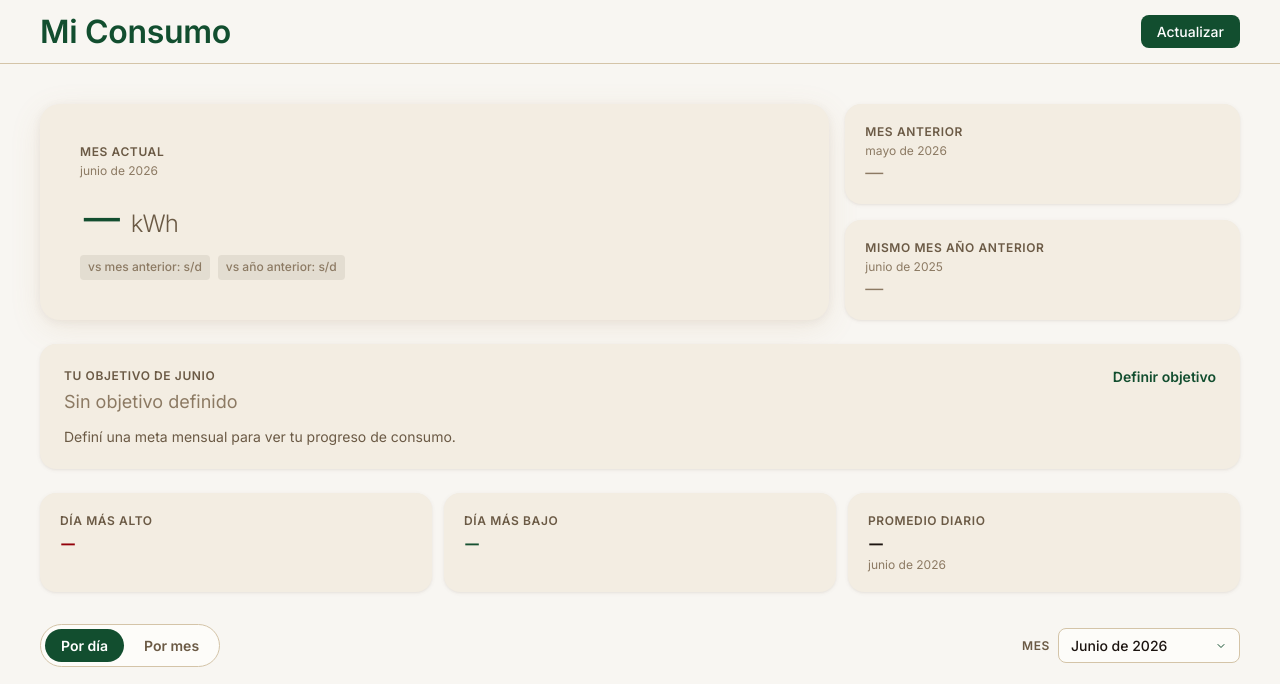
Test: ConsumoPage — toggle día / mes del gráfico › al elegir 'Por mes' muestra el selector de año y pide la comparación anual
This screenshot has width=1280, height=684.
Click the button "Por mes".
click(172, 646)  # box [128,629,215,662]
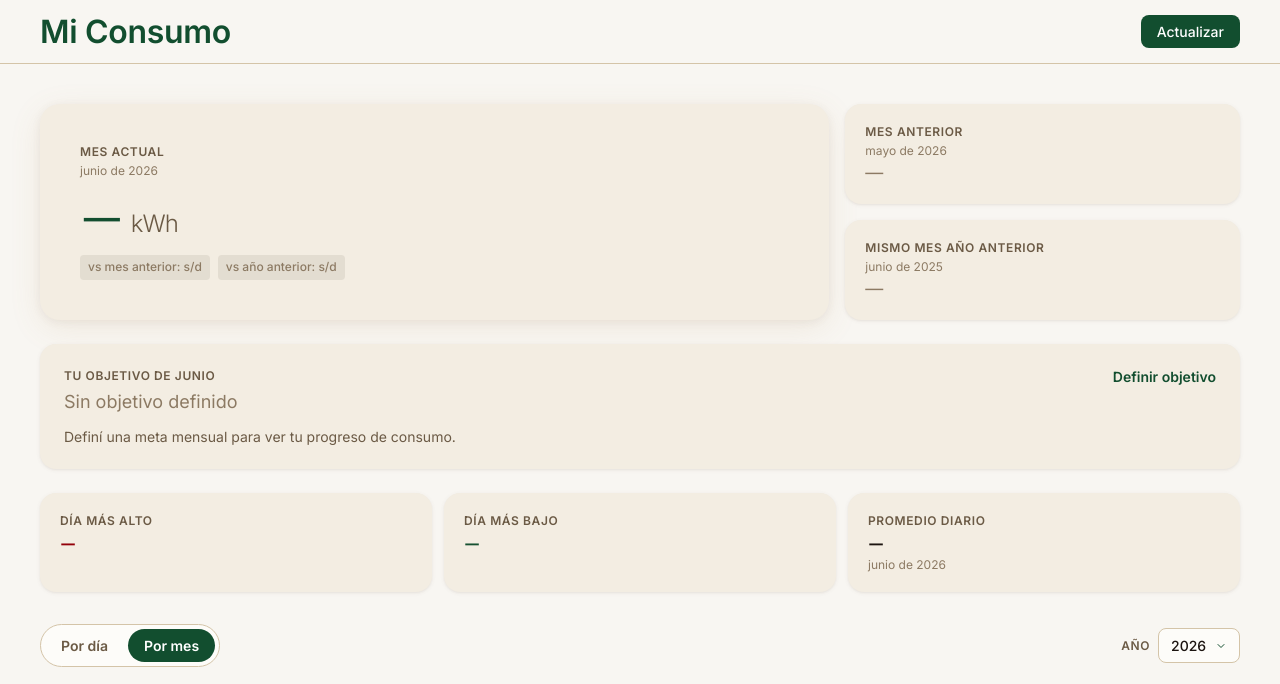
Now the dropdown labelled "Año" is shown, box [1158,628,1240,663]
